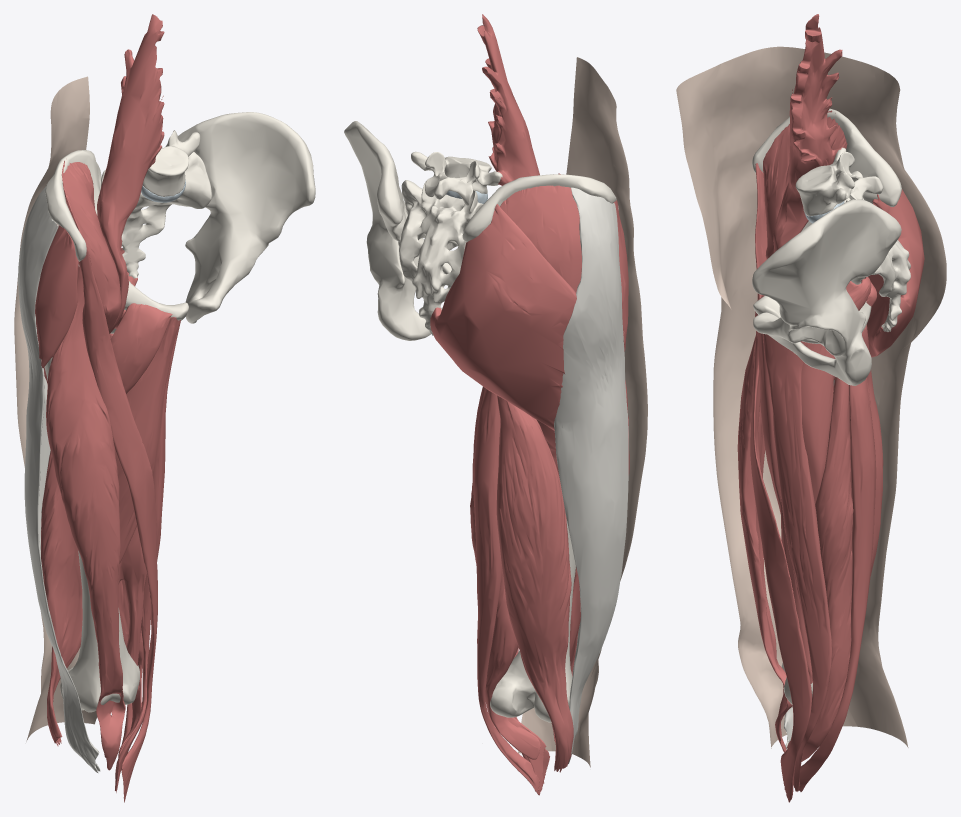
Rendered from hip-right.f3fb900a6d.glb.
The picture shows the model from 3 angles, left to right: view 1: azimuth 30°, elevation 25°; view 2: azimuth 150°, elevation 25°; view 3: azimuth 270°, elevation 25°; orthographic projection. The views are drawn at different scales.
Visible parts, largest first — view 1: right_rectus_femoris, left_hip_bone, right_iliotibial_tract, right_sartorius, right_psoas_major, skin, long_head_of_right_biceps_femoris, right_adductor_longus, right_tensor_fasciae_latae, right_iliacus, right_femur, sacrum (+6 smaller); view 2: right_iliotibial_tract, right_gluteus_maximus, long_head_of_right_biceps_femoris, skin, left_hip_bone, right_semitendinosus, sacrum, right_gluteus_medius, right_psoas_major, right_semimembranosus, right_femur, fifth_lumbar_vertebra (+3 smaller); view 3: skin, left_hip_bone, right_gracilis, right_semimembranosus, right_sartorius, right_semitendinosus, right_psoas_major, right_rectus_femoris, right_adductor_magnus, right_gluteus_maximus, right_hip_bone, fifth_lumbar_vertebra (+5 smaller).
Boxes of the visible parts, x1,y1,x2,y2 form: right_rectus_femoris: [46, 266, 125, 770]; left_hip_bone: [177, 112, 315, 323]; right_iliotibial_tract: [18, 186, 100, 773]; right_sartorius: [78, 248, 157, 802]; right_psoas_major: [97, 14, 164, 333]; skin: [14, 76, 97, 741]; long_head_of_right_biceps_femoris: [41, 451, 82, 746]; right_adductor_longus: [115, 317, 178, 563]; right_tensor_fasciae_latae: [35, 225, 78, 367]; right_iliacus: [61, 160, 121, 332]; right_femur: [44, 357, 139, 712]; sacrum: [101, 152, 211, 278]; right_iliotibial_tract: [554, 187, 628, 763]; right_gluteus_maximus: [430, 204, 576, 430]; long_head_of_right_biceps_femoris: [496, 395, 573, 772]; skin: [518, 57, 647, 767]; left_hip_bone: [344, 121, 451, 340]; right_semitendinosus: [473, 388, 539, 792]; sacrum: [398, 180, 483, 335]; right_gluteus_medius: [500, 185, 581, 292]; right_psoas_major: [477, 14, 539, 185]; right_semimembranosus: [470, 386, 540, 759]; right_femur: [490, 519, 575, 722]; fifth_lumbar_vertebra: [411, 151, 502, 205]; skin: [676, 46, 946, 748]; left_hip_bone: [752, 199, 901, 385]; right_gracilis: [763, 334, 832, 791]; right_semimembranosus: [801, 376, 853, 761]; right_sartorius: [750, 163, 811, 802]; right_semitendinosus: [799, 377, 876, 791]; right_psoas_major: [773, 14, 842, 251]; right_rectus_femoris: [737, 335, 792, 752]; right_adductor_magnus: [780, 343, 835, 683]; right_gluteus_maximus: [833, 189, 924, 379]; right_hip_bone: [752, 108, 901, 343]; fifth_lumbar_vertebra: [795, 147, 883, 216].
Size of the model in its own units: 0.313 by 0.8245 by 0.2493.
